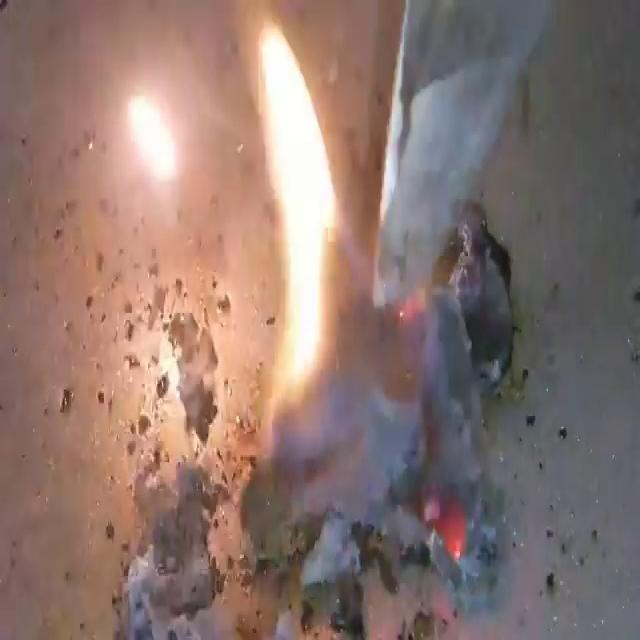Fire: (4, 4, 634, 636), (252, 20, 343, 412)
